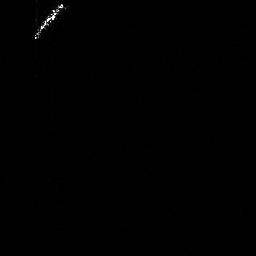ship: (30, 3, 69, 41)
